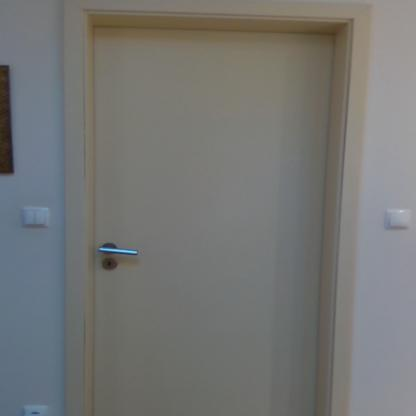door: (88, 23, 323, 416)
lever: (97, 242, 144, 260)
